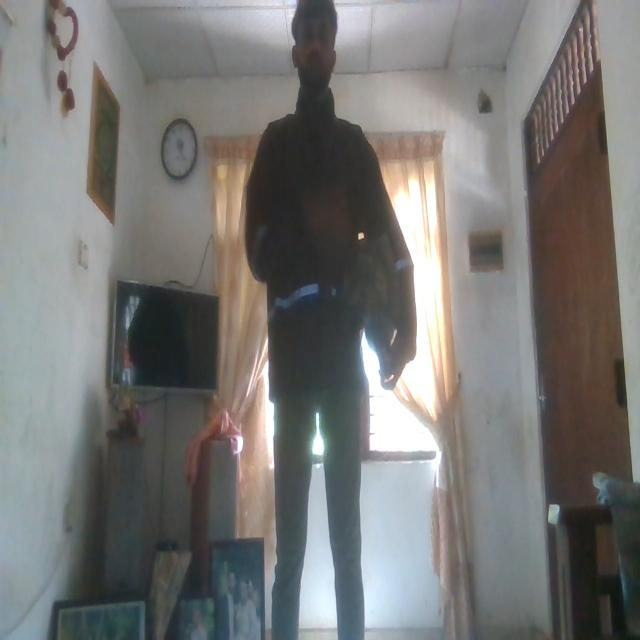Jacket_Wearer: (248, 115, 392, 423)
Person: (249, 0, 399, 640)
